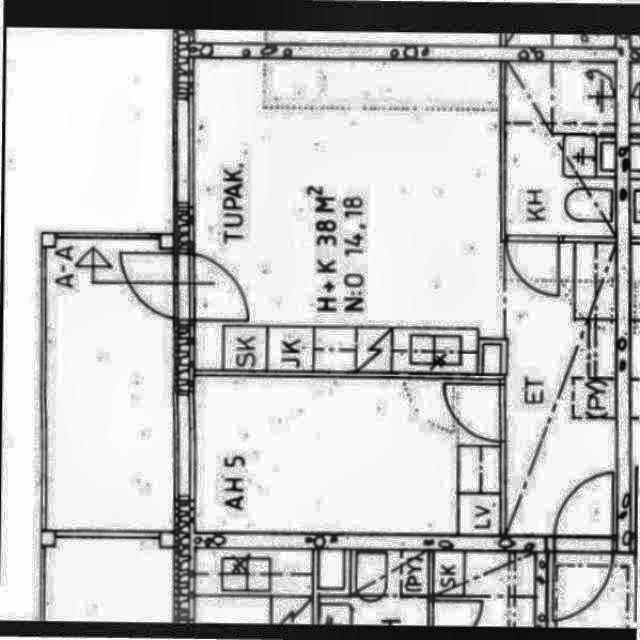room: (195, 60, 500, 374), (194, 377, 501, 536), (506, 242, 616, 536), (505, 62, 616, 236)
